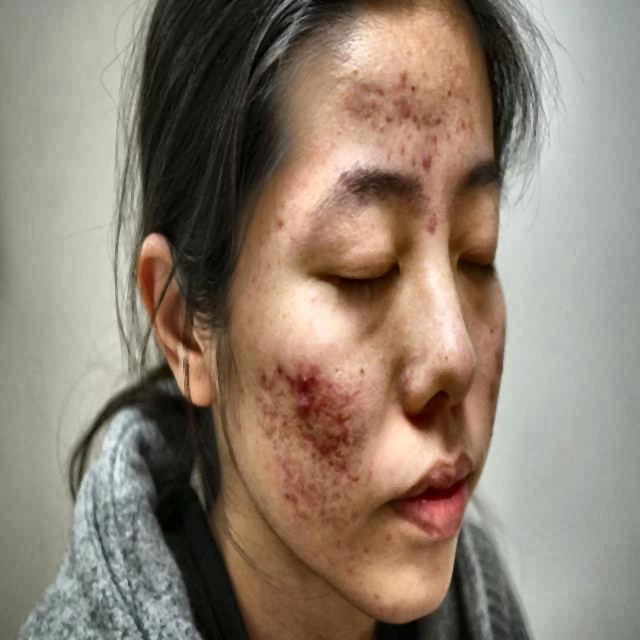papule: (415, 208, 447, 252), (296, 390, 321, 430), (423, 133, 443, 178), (293, 358, 317, 390), (250, 389, 275, 418), (399, 90, 420, 124), (316, 432, 334, 468), (331, 407, 356, 432), (392, 62, 414, 90), (336, 423, 357, 452), (390, 139, 411, 167), (265, 351, 286, 379), (341, 374, 357, 410), (277, 412, 296, 441), (366, 81, 387, 105), (281, 486, 302, 509), (319, 382, 329, 418), (281, 370, 294, 396), (276, 213, 288, 240), (256, 371, 270, 394), (336, 451, 348, 472), (284, 458, 298, 476)
